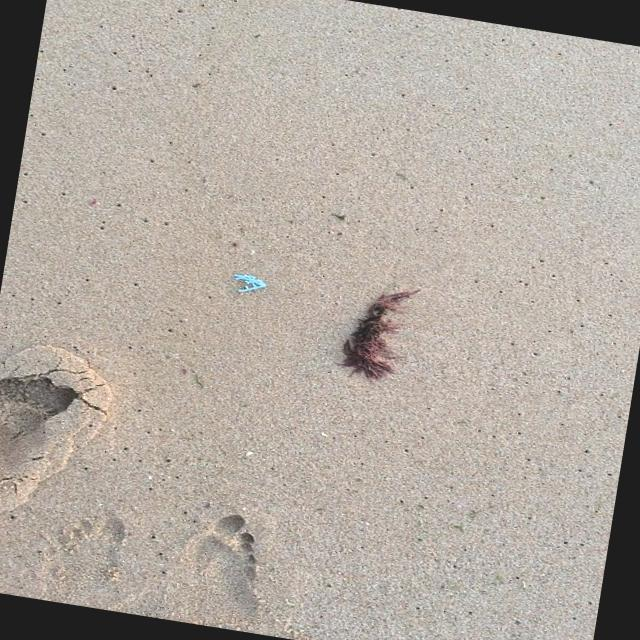Trash: (225, 265, 272, 300)
